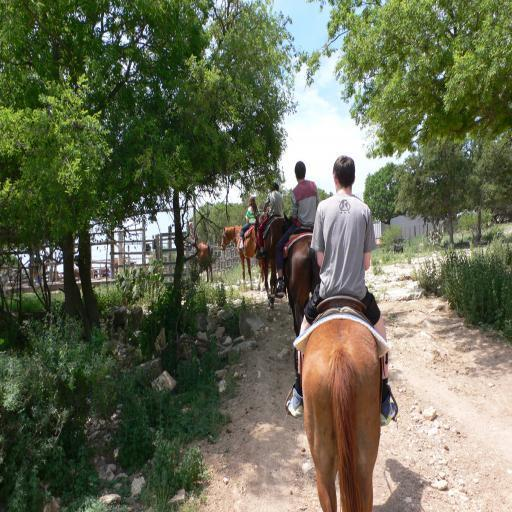horse: (298, 316, 382, 512), (284, 214, 319, 336), (254, 214, 286, 310), (220, 226, 266, 290), (183, 241, 213, 281)
